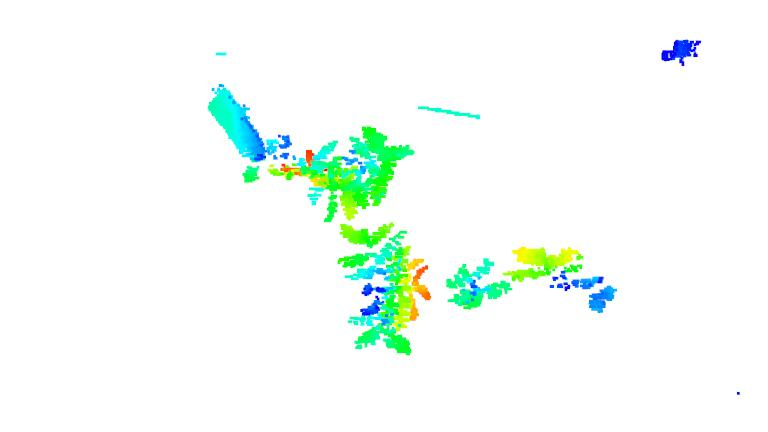chickpea: (337, 254, 436, 356), (511, 234, 623, 315), (272, 134, 366, 224), (308, 217, 417, 287), (346, 122, 414, 210), (444, 256, 514, 323)
